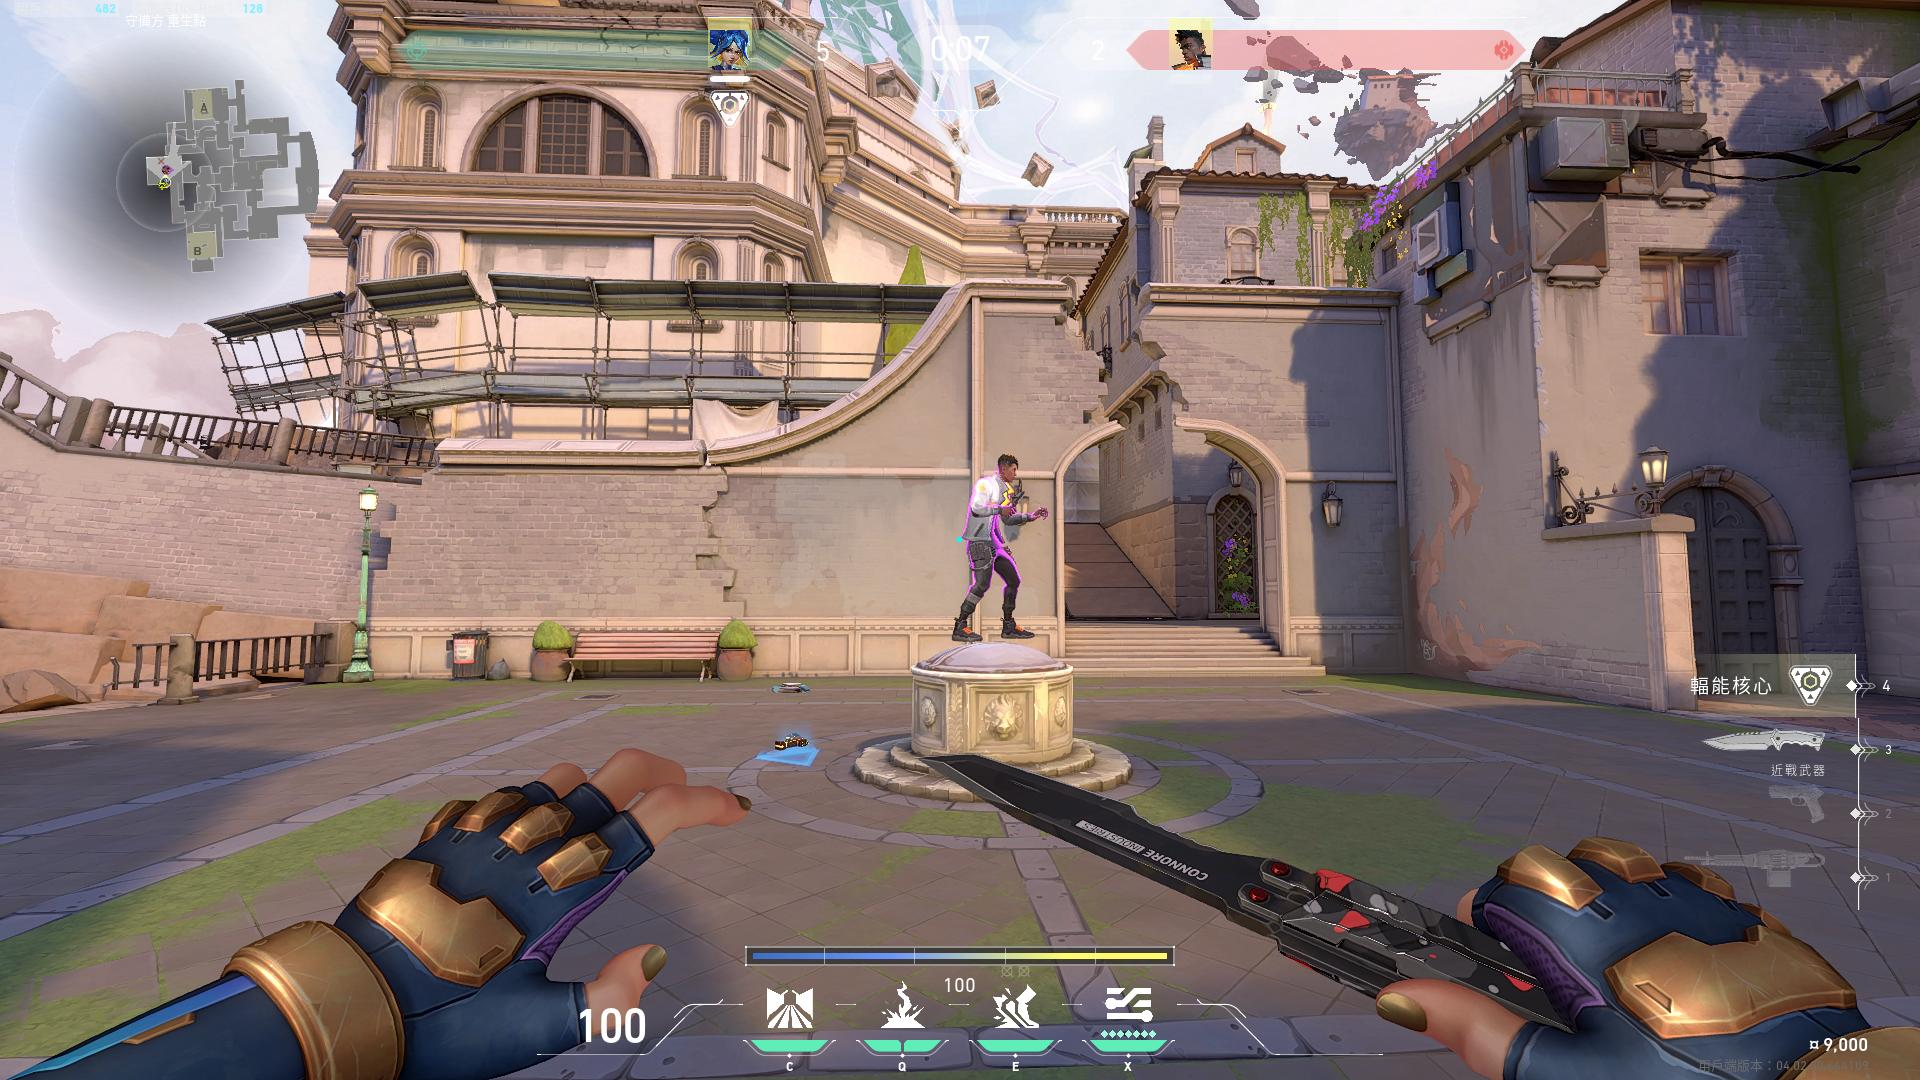enemyBody: (980, 480, 998, 534)
enemyHead: (1000, 462, 1015, 479)
